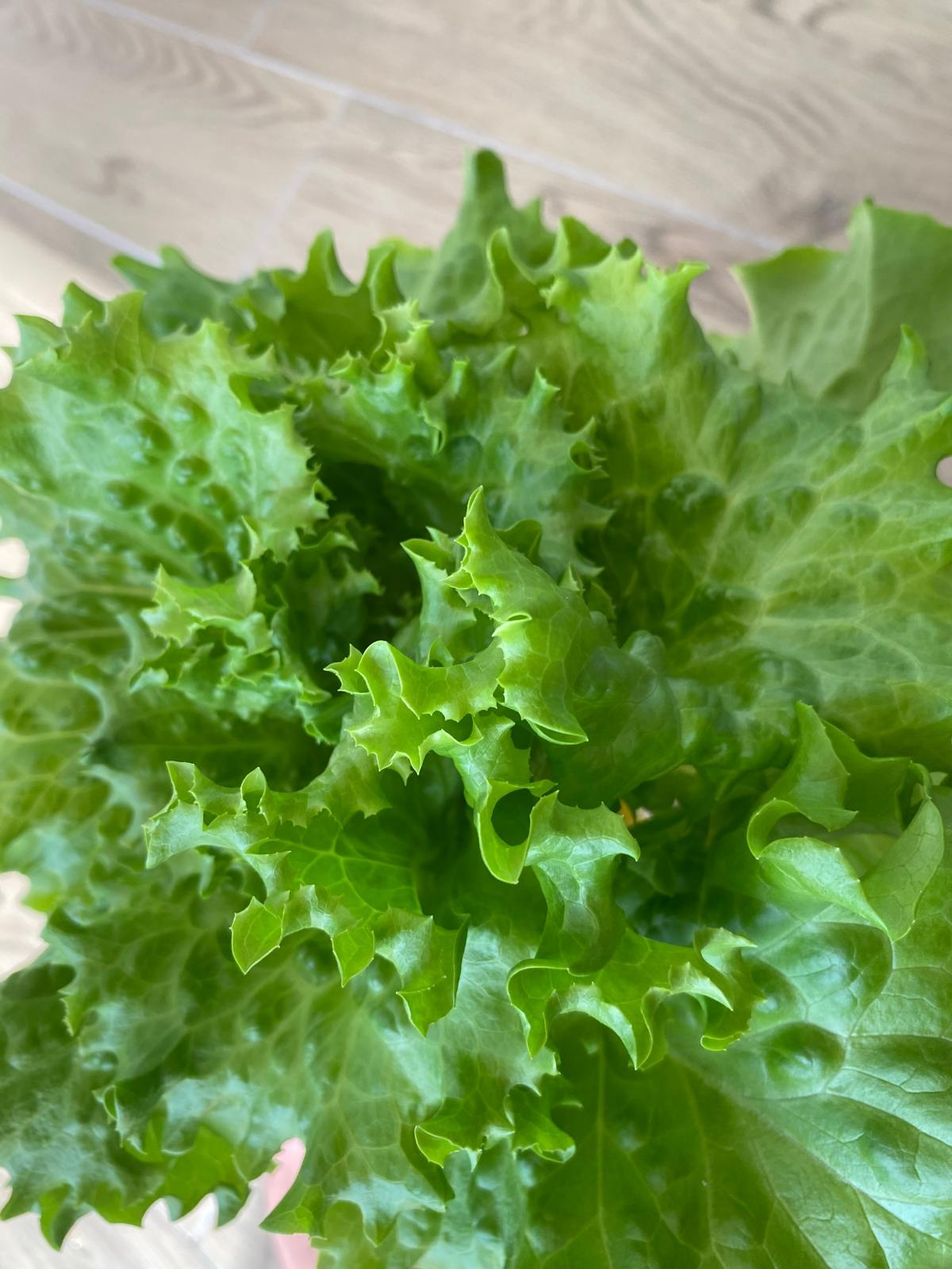Healthy Lettuce: (0, 143, 952, 1269)
